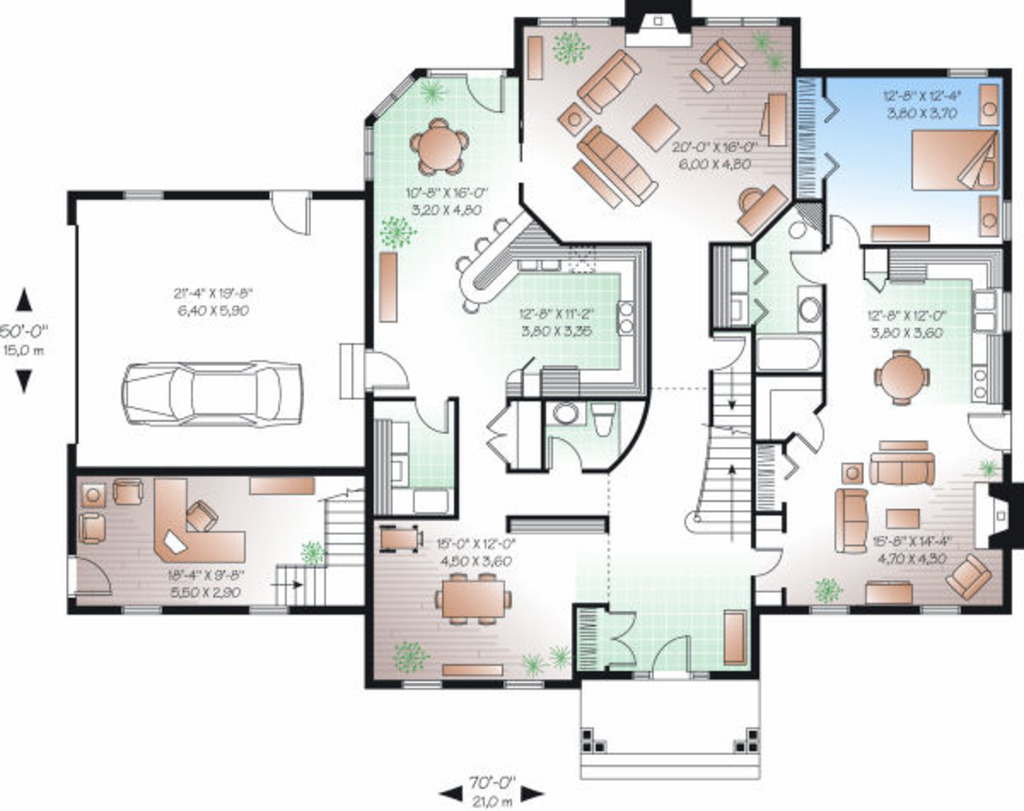bed: (900, 115, 1006, 195)
dining_table: (420, 562, 529, 633)
door: (450, 67, 520, 120), (642, 624, 699, 684), (592, 604, 638, 671), (269, 180, 320, 236), (62, 551, 114, 601), (412, 394, 459, 439), (359, 348, 407, 392), (791, 247, 835, 292), (743, 543, 787, 586), (972, 414, 1014, 457), (549, 441, 590, 475), (829, 218, 868, 248)
kitchen_bar: (449, 210, 606, 318)
large_sofa: (578, 125, 669, 214), (562, 51, 653, 114), (867, 433, 952, 489), (835, 487, 873, 562)
round_table: (406, 108, 483, 187), (874, 339, 938, 410)
small_sink: (801, 290, 831, 339), (539, 404, 590, 425)
small_sofa: (699, 34, 754, 89), (948, 553, 993, 603), (105, 475, 157, 508), (77, 514, 115, 543), (186, 501, 219, 533)
stairs: (687, 368, 758, 541), (278, 487, 377, 606)
tub: (755, 332, 829, 372)
twin_sink: (972, 285, 1019, 336)
window: (118, 186, 178, 208), (488, 680, 554, 695), (402, 675, 453, 686)
